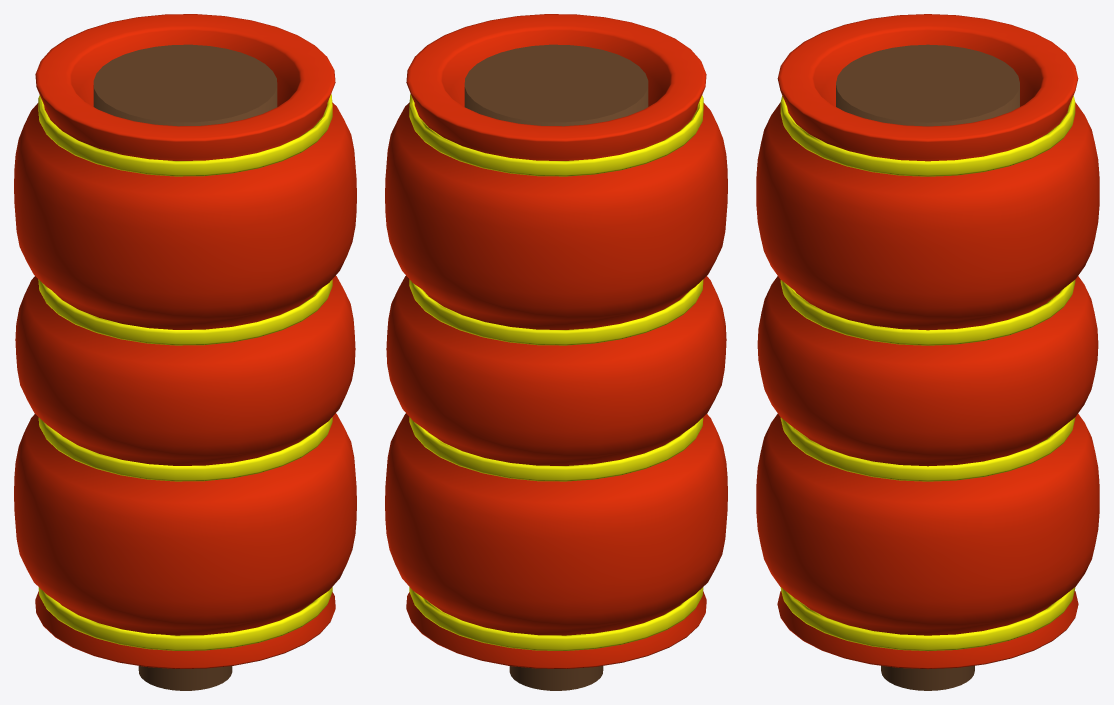
The model's file is Padded_Pole.fbx.
3 renders of one model, left to right at view 1: azimuth 30°, elevation 25°; view 2: azimuth 150°, elevation 25°; view 3: azimuth 270°, elevation 25°, orthographic.
Visible parts, largest first — view 1: Padded_Pole; view 2: Padded_Pole; view 3: Padded_Pole.
Boxes of the visible parts, x1,y1,x2,y2 form: Padded_Pole: [14, 14, 356, 690]; Padded_Pole: [385, 14, 727, 690]; Padded_Pole: [756, 14, 1099, 690].
Bounding box in the file's own units: 276 × 528 × 276.
